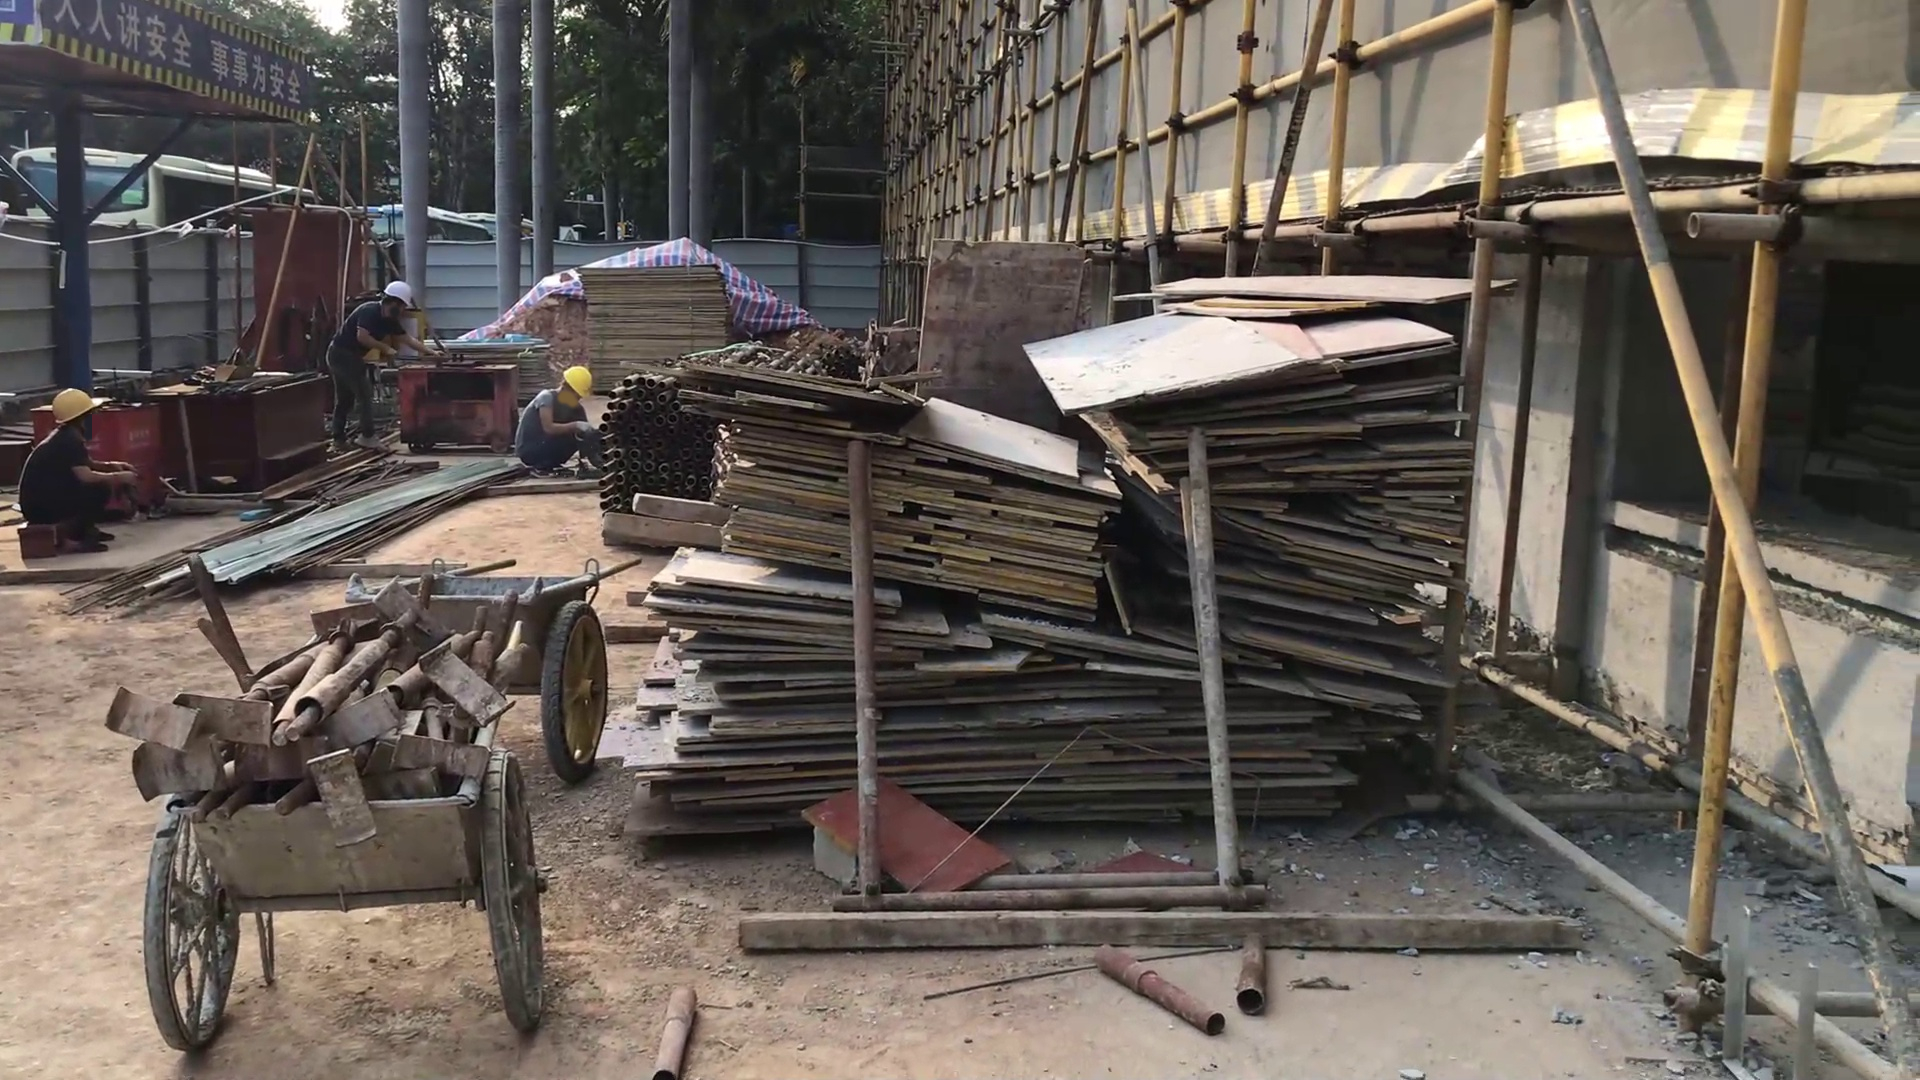board: (605, 270, 1472, 842), (576, 259, 733, 371)
handcart: (138, 723, 554, 1055), (343, 555, 642, 788)
helmet: (45, 384, 104, 427), (559, 365, 595, 400), (382, 279, 413, 305)
person: (322, 279, 447, 453), (14, 383, 135, 557), (510, 363, 602, 482)
rebar: (82, 461, 514, 611)
scaffold: (601, 344, 721, 520)
slogan: (1, 1, 309, 124)
